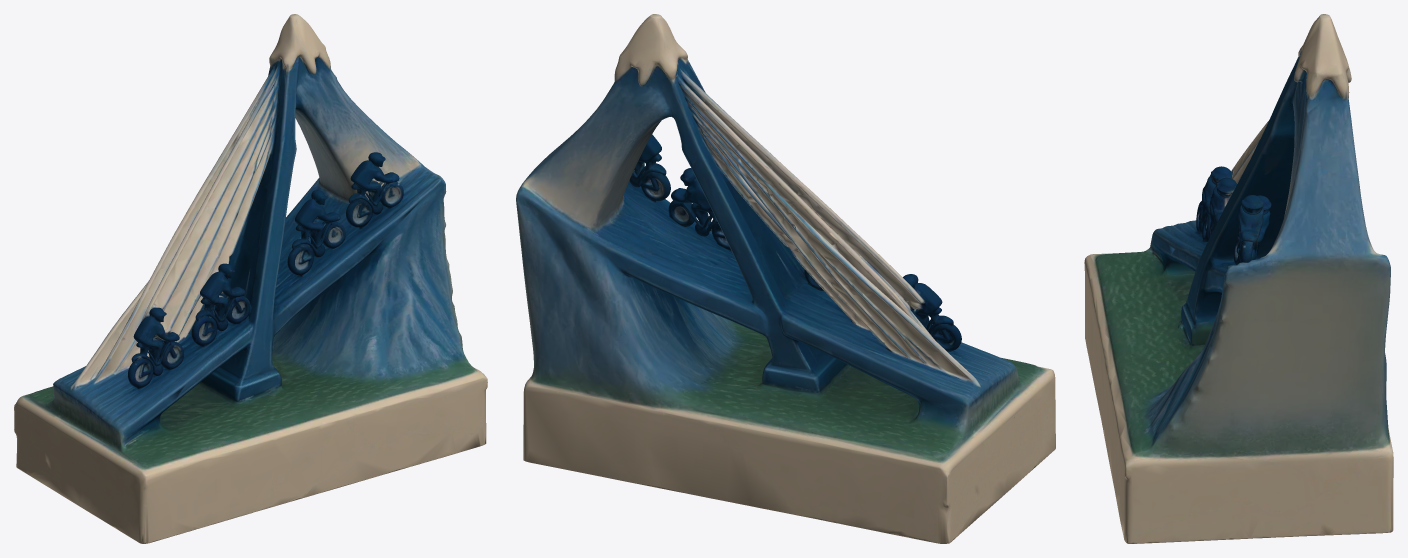
File: compressed_1763391168221_erasmus.glb
3 renders of one model, left to right at view 1: azimuth 30°, elevation 25°; view 2: azimuth 150°, elevation 25°; view 3: azimuth 270°, elevation 25°, orthographic. The views are drawn at different scales.
Parts seen in each view (by area): view 1: material; view 2: material; view 3: material.
Boxes of the visible parts, left/top/right/bottom form: material: left=14, top=14, right=487, bottom=543; material: left=516, top=14, right=1055, bottom=543; material: left=1084, top=14, right=1393, bottom=543.
Size of the model in its own units: 0.8199 by 0.8132 by 0.4894.
Materials: 1 (1 with a texture image).
